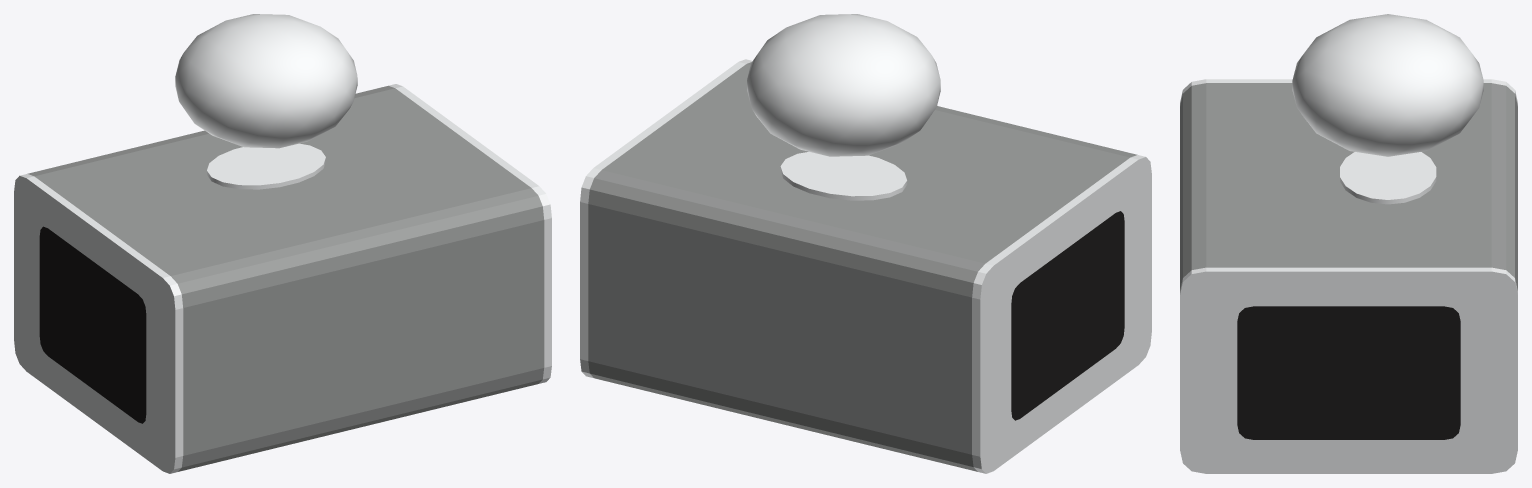
File: M_BRchuangtouzhuo02.FBX
The picture shows the model from 3 angles, left to right: view 1: azimuth 30°, elevation 25°; view 2: azimuth 150°, elevation 25°; view 3: azimuth 270°, elevation 25°; orthographic projection. The views are drawn at different scales.
Parts seen in each view (by area): view 1: M_BRchuangtouzhuo02_01, M_BRchuangtouzhuo02_04, M_BRchuangtouzhuo02_02, M_BRchuangtouzhuo02_03; view 2: M_BRchuangtouzhuo02_01, M_BRchuangtouzhuo02_04, M_BRchuangtouzhuo02_02, M_BRchuangtouzhuo02_03; view 3: M_BRchuangtouzhuo02_01, M_BRchuangtouzhuo02_02, M_BRchuangtouzhuo02_04, M_BRchuangtouzhuo02_03.
Part boxes in pixels (x1=…): M_BRchuangtouzhuo02_01: x1=14, y1=84, x2=551, y2=473; M_BRchuangtouzhuo02_04: x1=175, y1=14, x2=357, y2=148; M_BRchuangtouzhuo02_02: x1=39, y1=226, x2=146, y2=423; M_BRchuangtouzhuo02_03: x1=207, y1=143, x2=325, y2=189; M_BRchuangtouzhuo02_01: x1=580, y1=59, x2=1151, y2=473; M_BRchuangtouzhuo02_04: x1=747, y1=14, x2=940, y2=156; M_BRchuangtouzhuo02_02: x1=1011, y1=211, x2=1124, y2=420; M_BRchuangtouzhuo02_03: x1=780, y1=152, x2=907, y2=200; M_BRchuangtouzhuo02_01: x1=1180, y1=79, x2=1517, y2=473; M_BRchuangtouzhuo02_02: x1=1237, y1=306, x2=1460, y2=439; M_BRchuangtouzhuo02_04: x1=1292, y1=14, x2=1483, y2=156; M_BRchuangtouzhuo02_03: x1=1340, y1=152, x2=1436, y2=204.
Bounding box in the file's own units: 1.22 × 1.04 × 0.9012.
